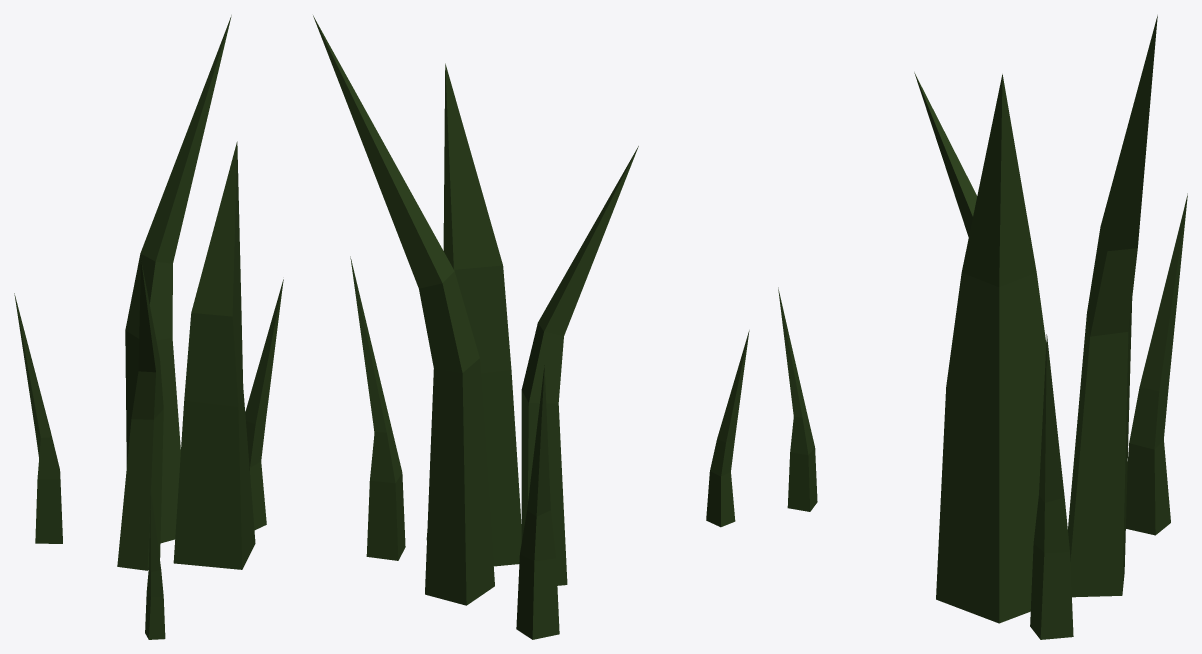
File: Grass 1.fbx
3 views of the same model, side by side, from view 1: azimuth 30°, elevation 25°; view 2: azimuth 150°, elevation 25°; view 3: azimuth 270°, elevation 25° (orthographic). The views are drawn at different scales.
Visible parts, largest first — view 1: Cone; view 2: Cone; view 3: Cone.
Boxes of the visible parts, x1=… form: Cone: x1=14, y1=15, x2=283, y2=639; Cone: x1=313, y1=15, x2=749, y2=639; Cone: x1=778, y1=15, x2=1187, y2=639.
Size of the model in its own units: 0.1032 by 0.2011 by 0.1178.
